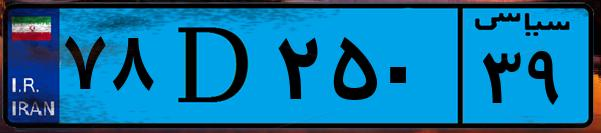0: (385, 28, 445, 110)
2: (270, 28, 330, 110)
3: (475, 38, 525, 113)
5: (330, 28, 385, 110)
7: (57, 26, 110, 100)
8: (110, 28, 158, 98)
9: (525, 38, 570, 115)
D: (158, 12, 270, 120)
